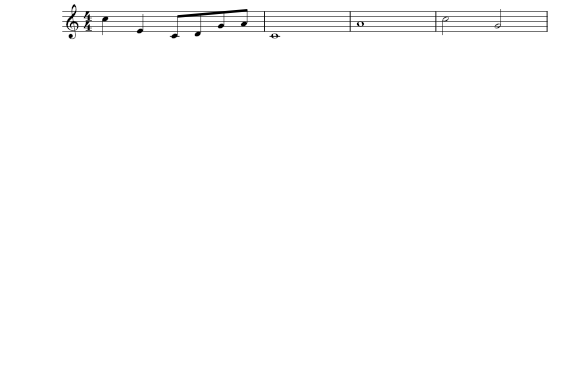Treble Clef: (62, 1, 81, 42)
